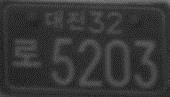0: (106, 39, 132, 87)
2: (78, 37, 105, 88), (105, 10, 122, 37)
3: (133, 38, 159, 92), (86, 8, 106, 34)
5: (51, 36, 76, 84)
대전_O: (44, 8, 86, 32)
러: (13, 36, 42, 70)
